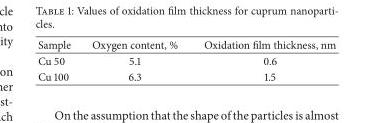table: (37, 36, 335, 83)
table column: (190, 36, 335, 83), (80, 36, 190, 83), (37, 36, 80, 83)
table column header: (37, 36, 335, 52)
table row: (37, 36, 335, 52), (37, 52, 335, 68), (37, 68, 335, 83)
